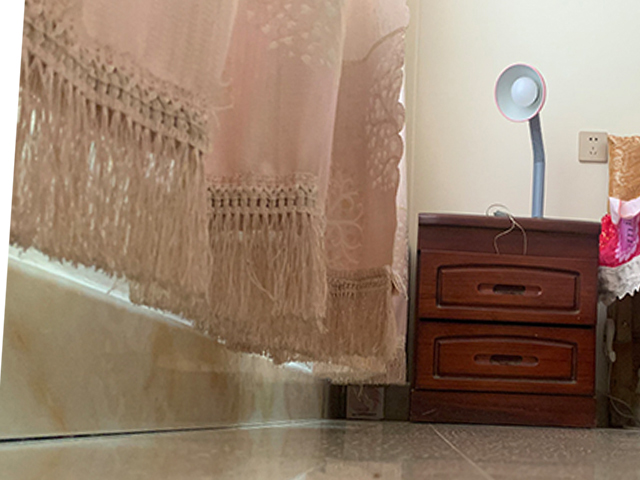cabinet: (409, 211, 602, 430)
curtain: (9, 1, 411, 387)
wire: (605, 367, 640, 430)
